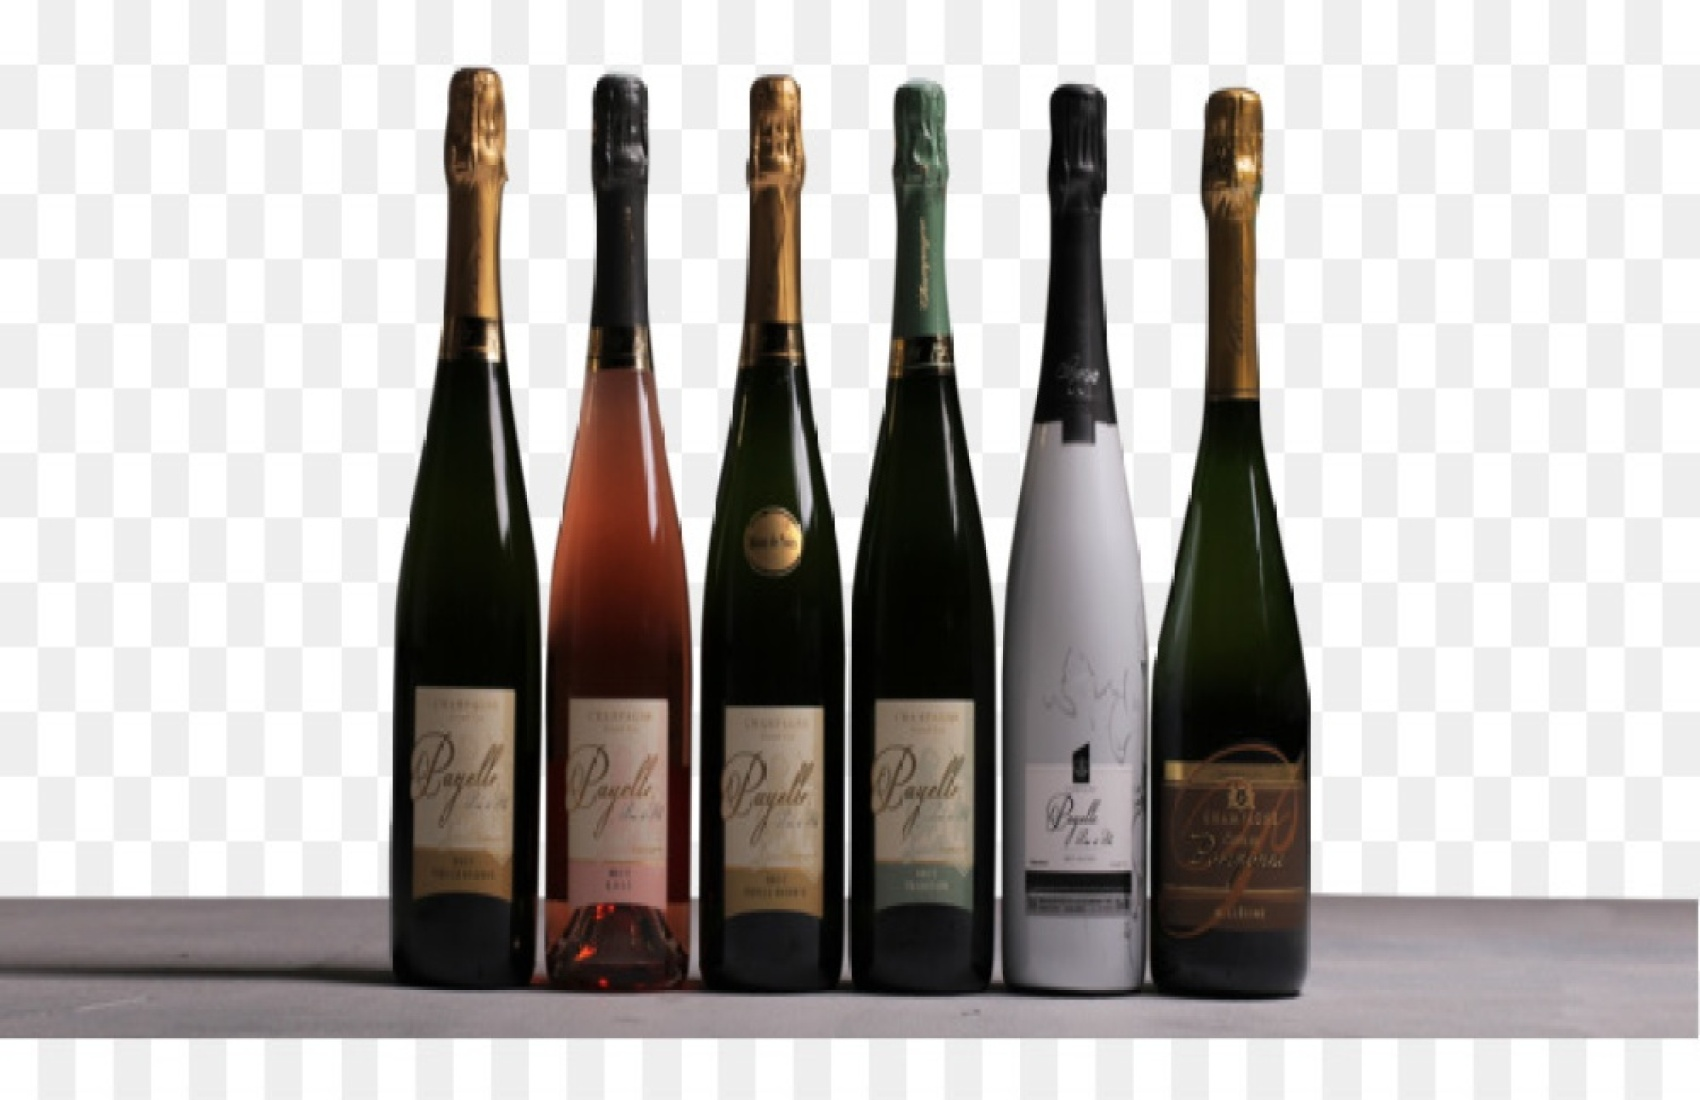wine: (1156, 93, 1315, 1005), (380, 64, 539, 975), (545, 62, 704, 972), (852, 69, 985, 979), (1017, 76, 1150, 985), (710, 76, 843, 984)
